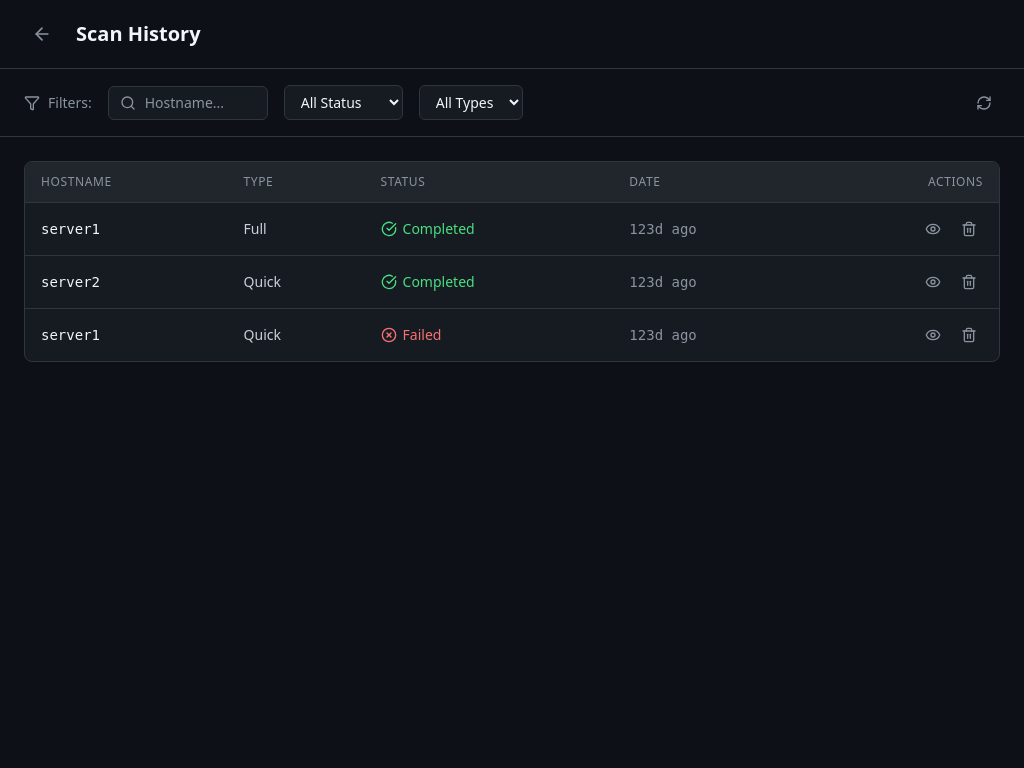
ScanHistoryPage › Delete old scans (AC5) › shows error message when delete fails
The image size is (1024, 768).
Click the button with test id "delete-button-1" at point(969, 229), box [955,215,983,243]
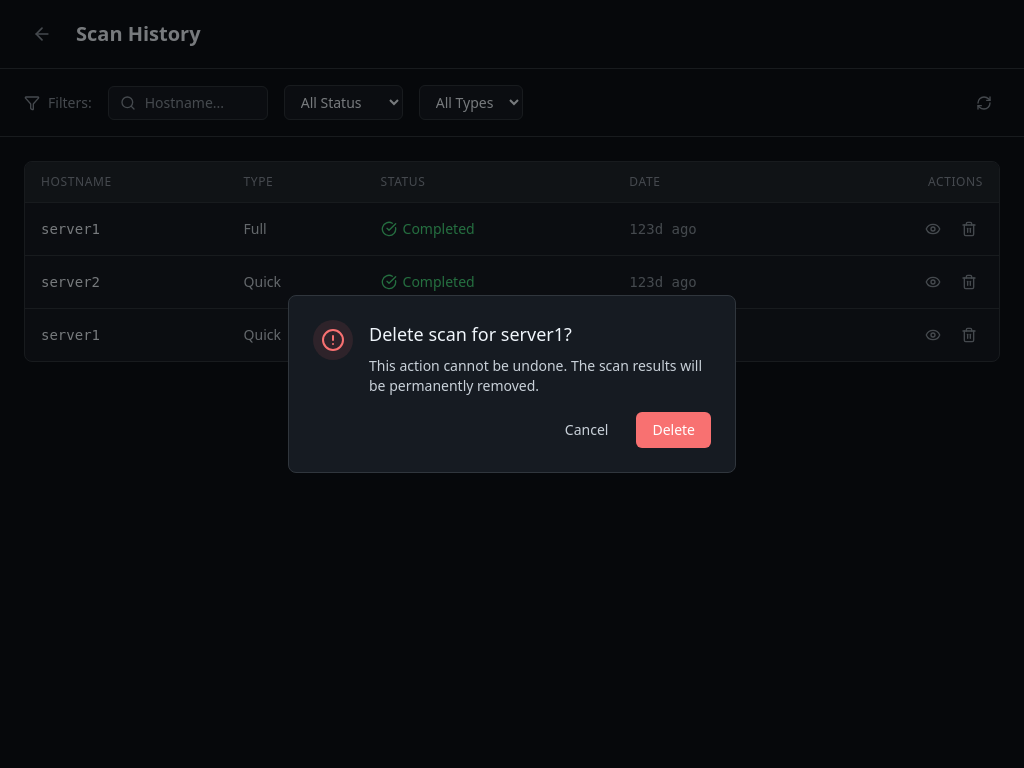
Check: the element with test id "delete-confirm-modal" is shown
Click the button with test id "confirm-delete-button" at point(674, 430), box [636,412,711,448]
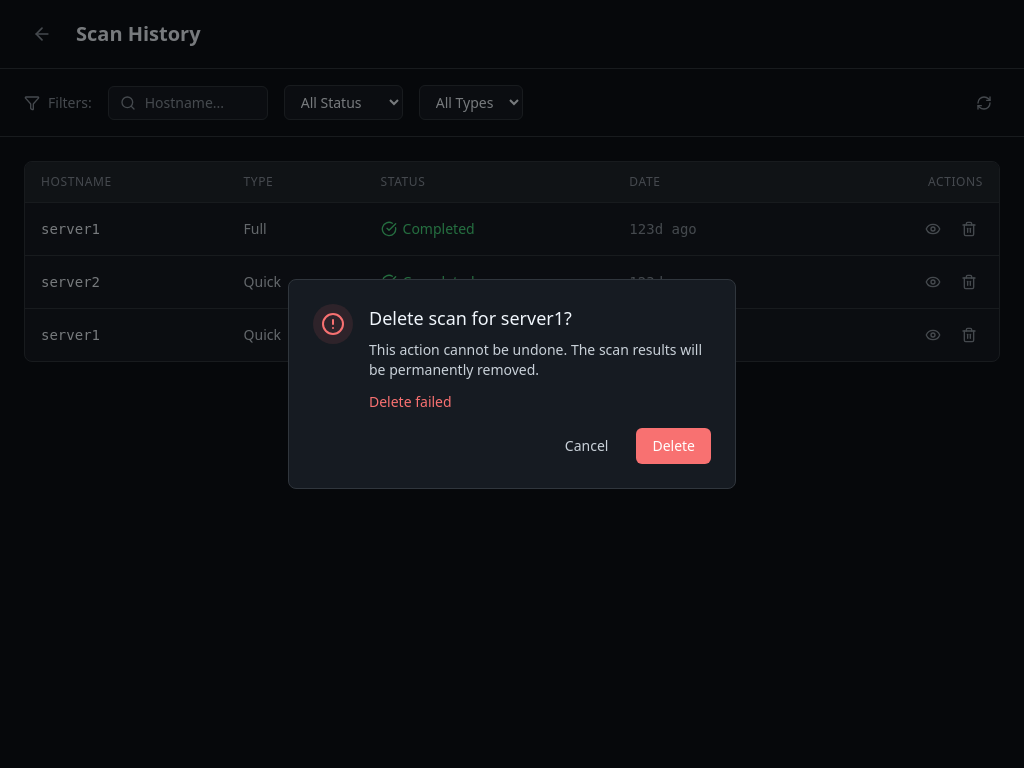
Check: the text "Delete failed" is shown, box [369,392,452,411]
